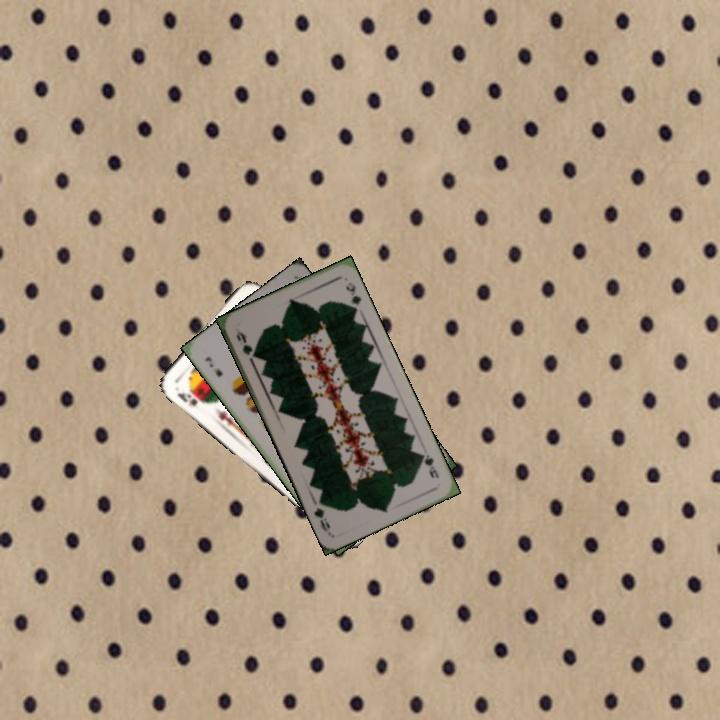E7: (201, 352, 225, 380)
G9: (232, 325, 259, 364), (415, 449, 441, 481)
SK: (174, 386, 207, 409)
